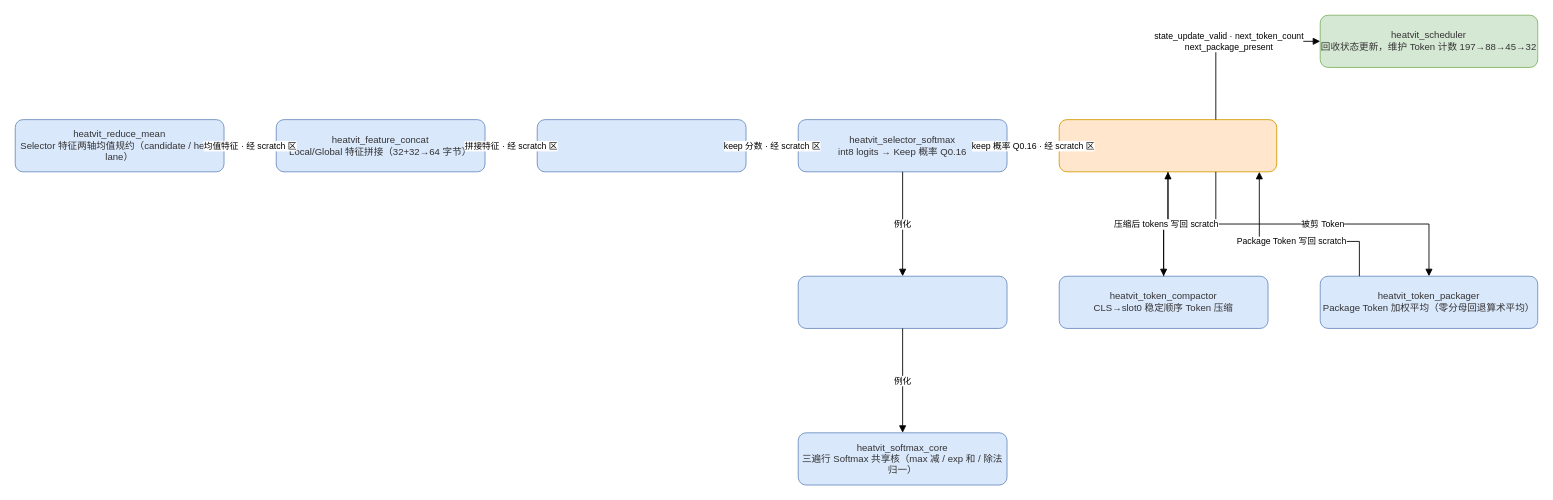
This 1553x500 diagram has some shape labels left out. The shapes that lost their labels are listed below. From the top down, each one's centre as x and y in pixels, then its label:
the point at 641,145: heatvit_head_fuse 三 Head keep 分数加权融合（零分母回退等权）
the point at 1167,145: heatvit_selector_finalize 单遍扫描 + 0.5 阈值：压缩/打包编排，唯一状态更新输出
the point at 902,301: heatvit_softmax_selector Selector 封装：δ2=1.0 · 输出 17-bit Q0.16
